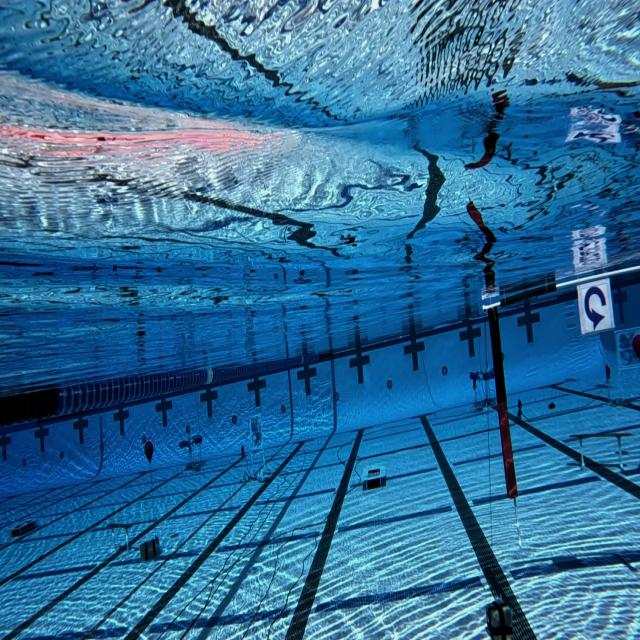blue_side: (576, 276, 616, 338)
